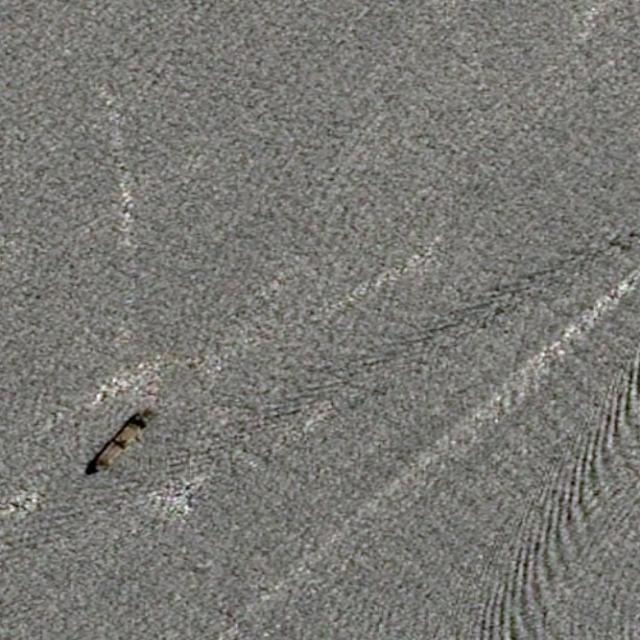Cargo: (89, 408, 155, 477)
